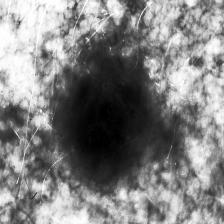Benign Marking or Mole: (67, 65, 151, 179)
